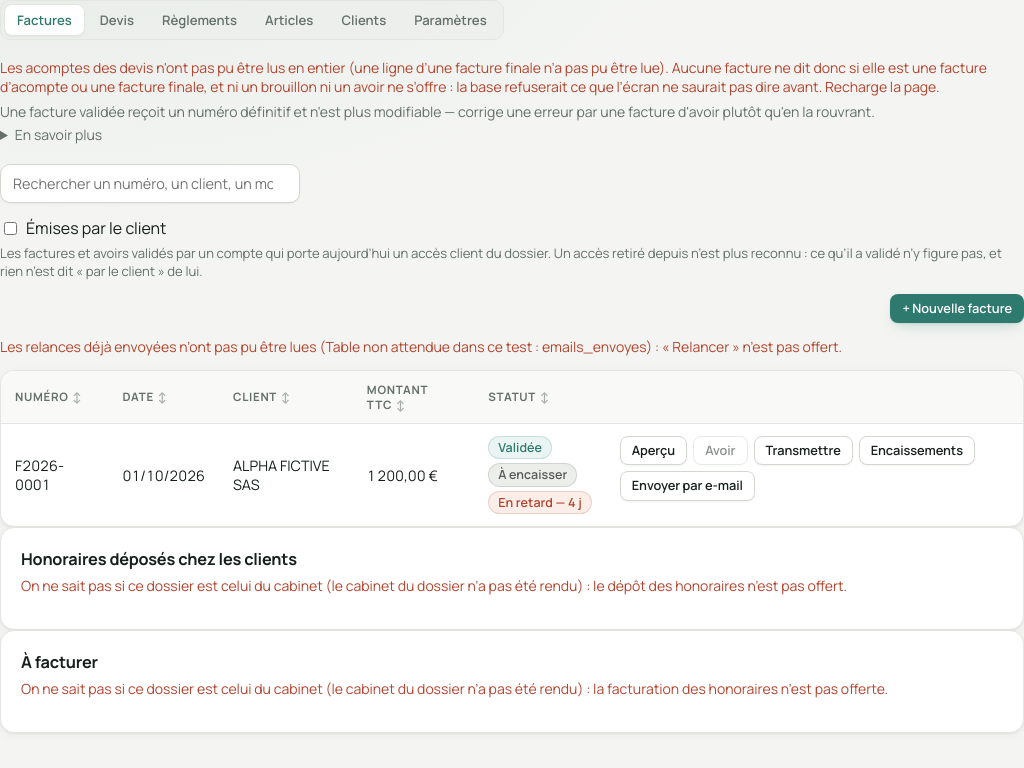
Test: Devis dans l’onglet Factures — cabinet › les refus se disent avant le clic, sur la saisie telle qu’elle part ; le brouillon part par enregistrer_devis
The image size is (1024, 768).
Expected: the text "F2026-0001" is shown, [15,456,64,494]
Click the tab "Devis". click: (117,20)
box: [87,4,147,36]
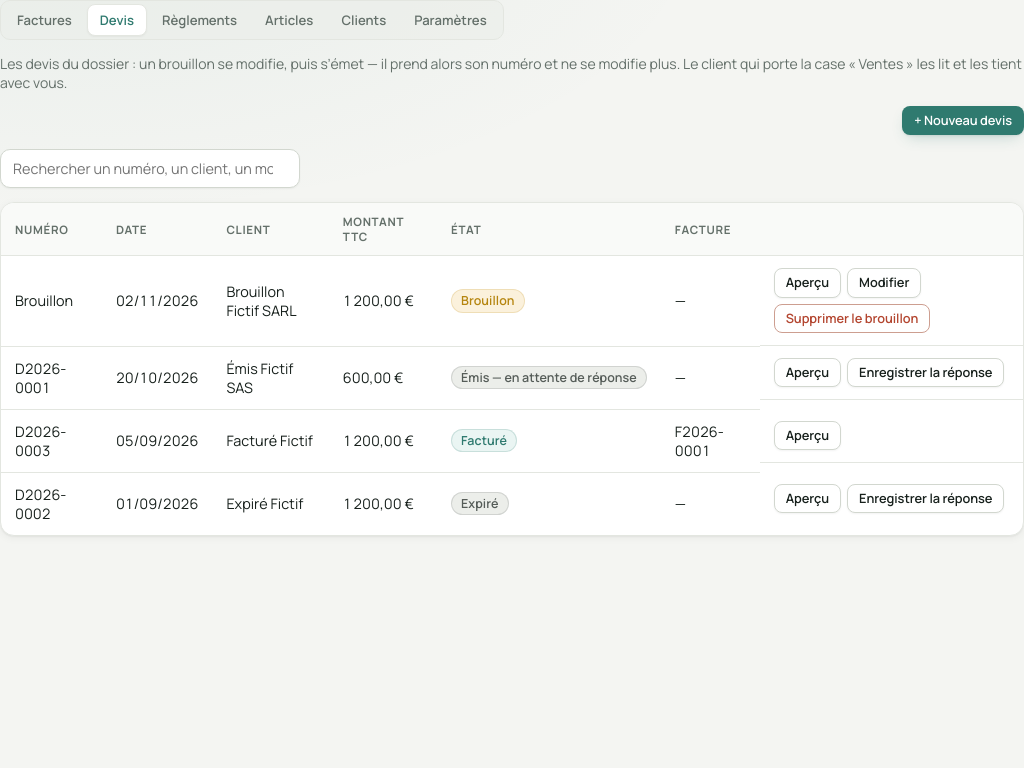
Click the button "+ Nouveau devis". click: (963,121)
box: [902,106,1023,135]
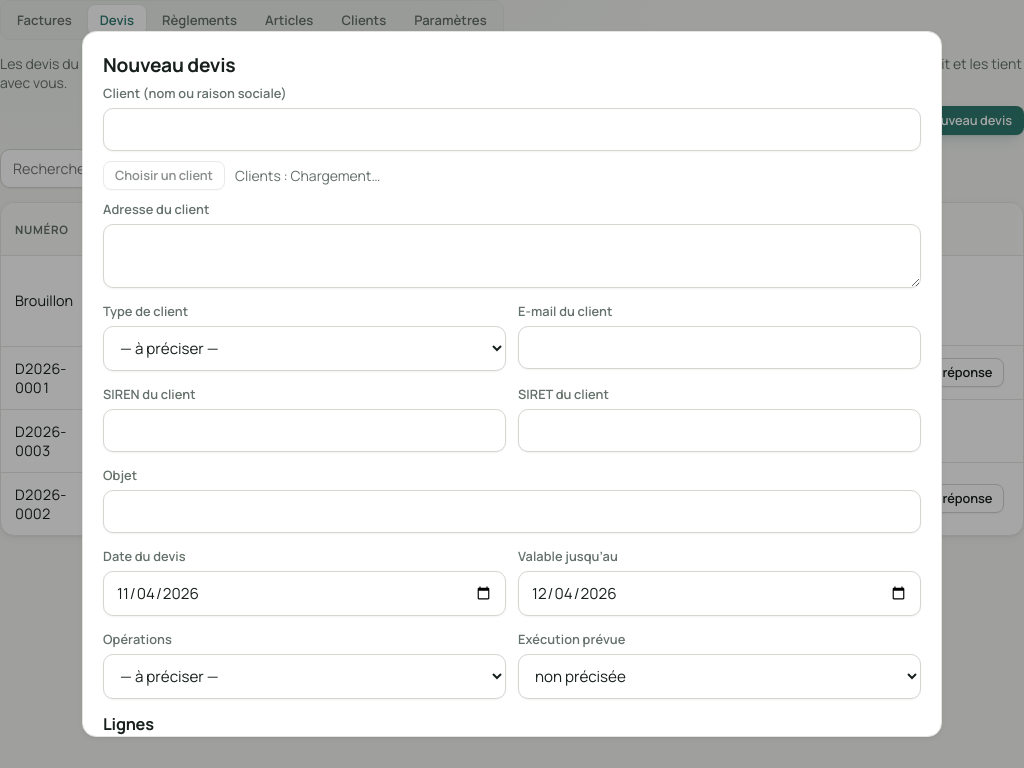
Now the date field labelled "Date du devis" holds "2026-11-04", box [103,571,506,616]
Now the date field labelled "Valable jusqu’au" holds "2026-12-04", box [518,571,921,616]
Type "Nouveau Fictif SAS" into the field labelled "Client (nom ou raison sociale)". click: (512,129)
box: [103,108,921,151]
(page scrolled)
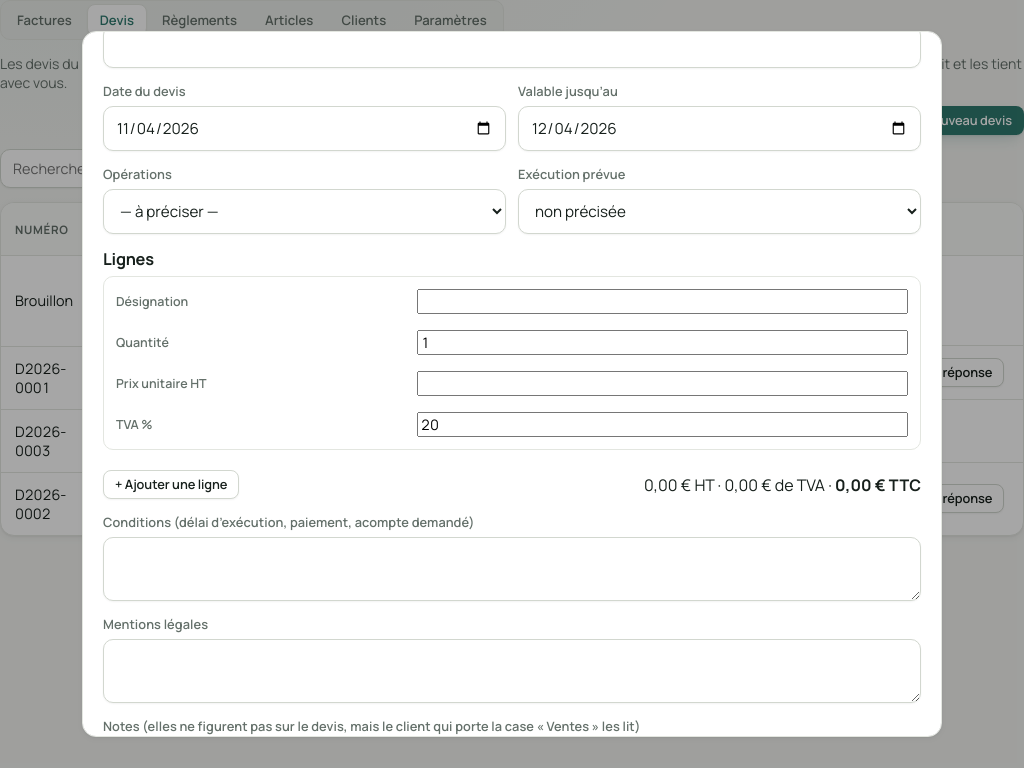
Type "250,5" into the field named "Prix unitaire HT de la ligne 1". click: (662,384)
box: [417,371,908,396]
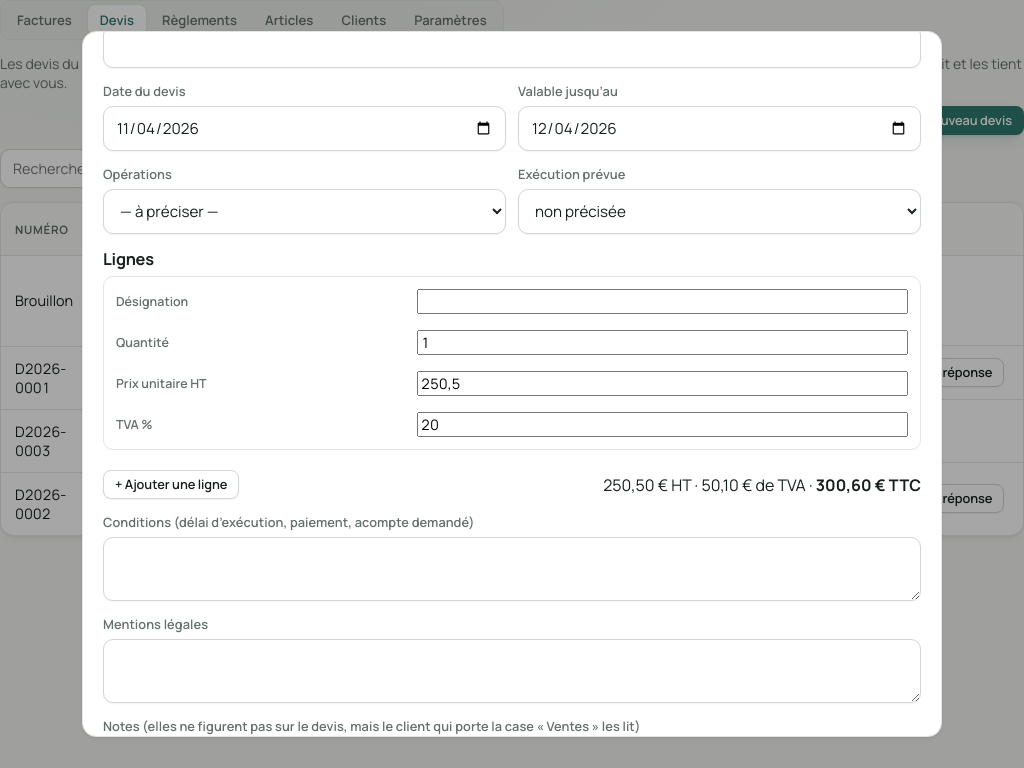
Type "Étude" into the field named "Désignation de la ligne 1". click: (662,302)
box: [417,289,908,314]
Type "2026-11-01" into the date field labelled "Valable jusqu’au". click: (720,129)
box: [518,106,921,151]
Type "2026-12-04" into the date field labelled "Valable jusqu’au". click: (720,129)
box: [518,106,921,151]
(page scrolled)
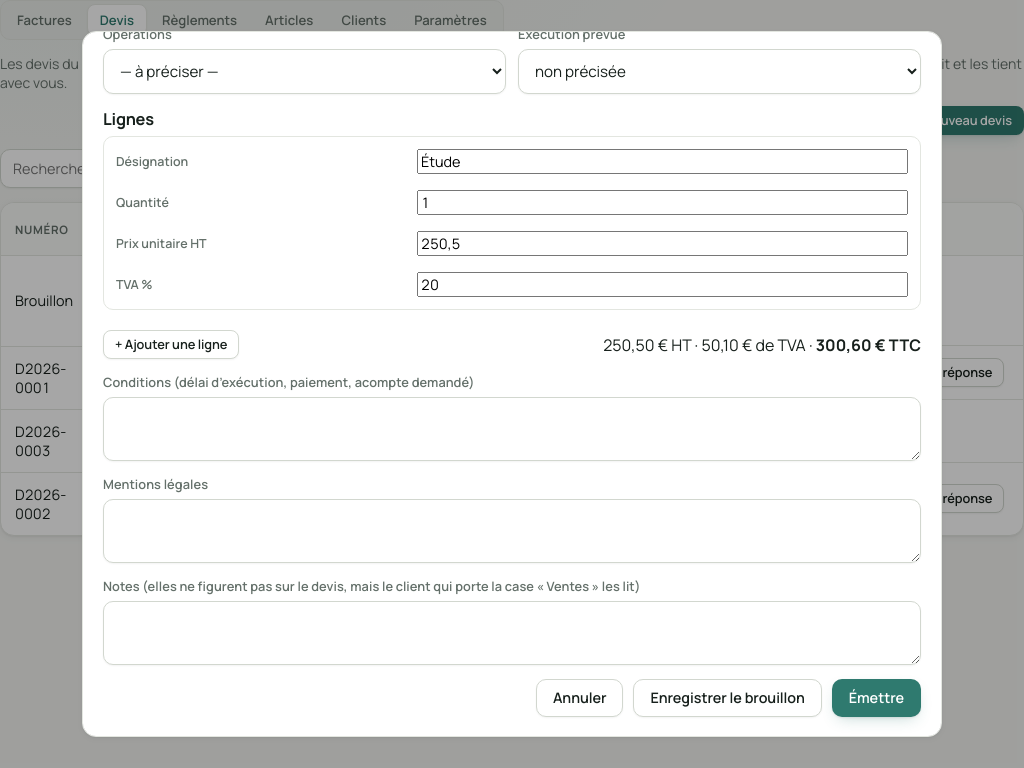
Now the element named "Totaux du devis" shows "300,60 € TTC", box [603,334,921,356]
Now the button "Enregistrer le brouillon" is enabled
Click the button "Enregistrer le brouillon". click: (728,698)
box: [634,679,822,717]
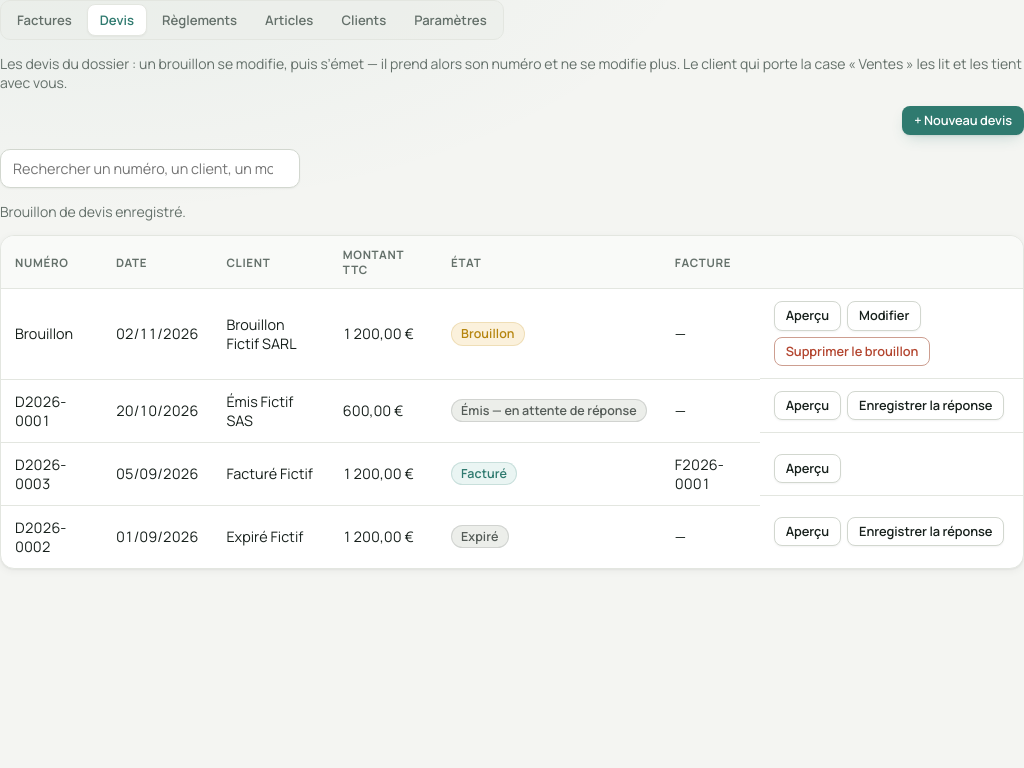
Now the dialog is gone
Now the message reads "Brouillon de devis enregistré.", box [0,202,186,221]
